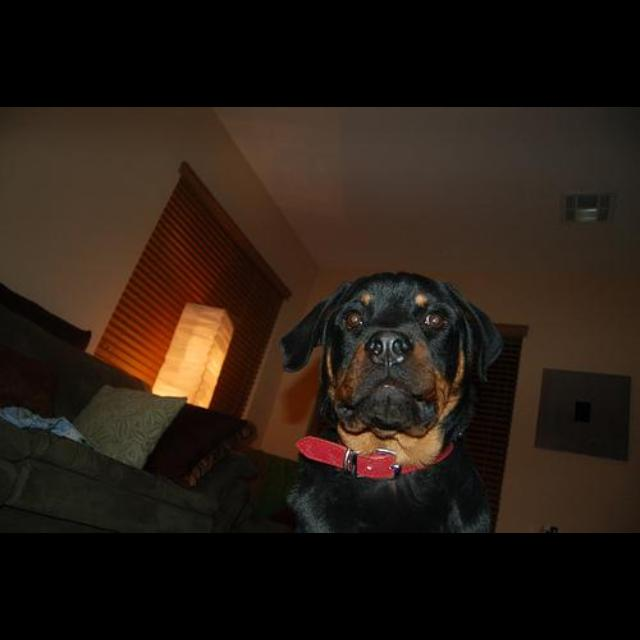rottweiler: (279, 271, 504, 533)
